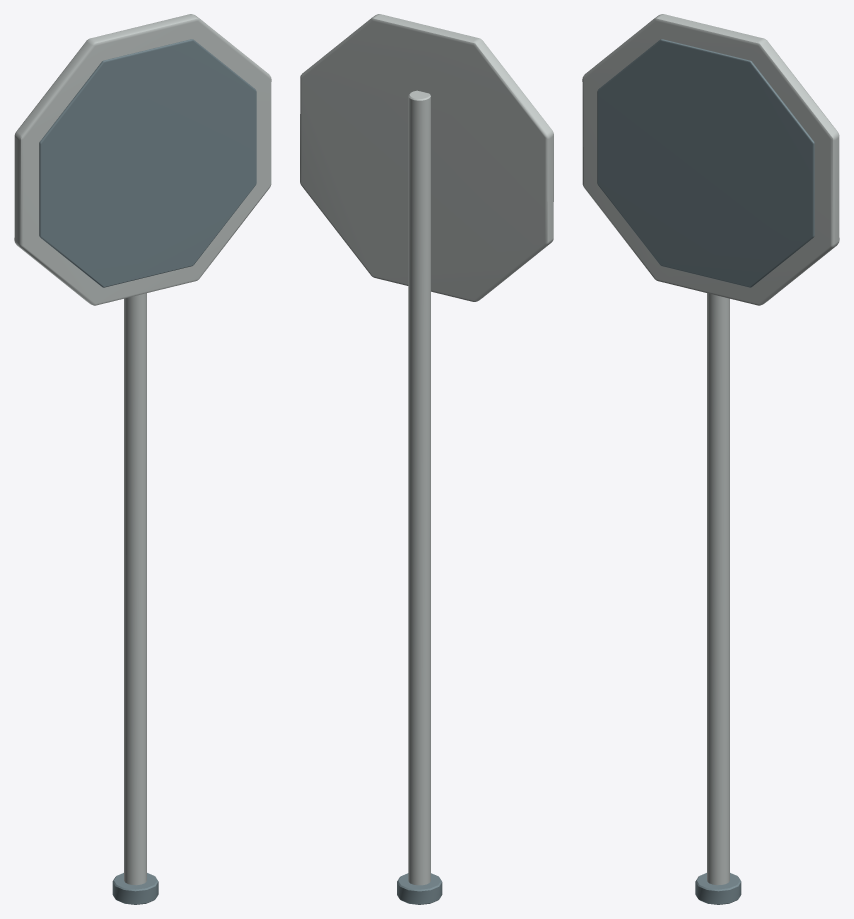
The model's file is stop-sign.glb.
3 renders of one model, left to right at view 1: azimuth 30°, elevation 25°; view 2: azimuth 150°, elevation 25°; view 3: azimuth 330°, elevation 25°, orthographic.
Parts seen in each view (by area): view 1: inset_octagon, octagon, sign_post, sign_post_foot; view 2: octagon, sign_post, sign_post_foot; view 3: inset_octagon, octagon, sign_post, sign_post_foot.
Part boxes in pixels (x1=…): inset_octagon: x1=39, y1=39, x2=256, y2=287; octagon: x1=14, y1=14, x2=271, y2=305; sign_post: x1=124, y1=293, x2=146, y2=885; sign_post_foot: x1=112, y1=873, x2=158, y2=904; octagon: x1=300, y1=14, x2=553, y2=301; sign_post: x1=408, y1=90, x2=430, y2=885; sign_post_foot: x1=397, y1=873, x2=442, y2=904; inset_octagon: x1=597, y1=39, x2=814, y2=287; octagon: x1=582, y1=14, x2=839, y2=305; sign_post: x1=707, y1=293, x2=729, y2=885; sign_post_foot: x1=695, y1=873, x2=741, y2=904.
Bounding box in the file's own units: 0.6837 × 2.26 × 0.116.
